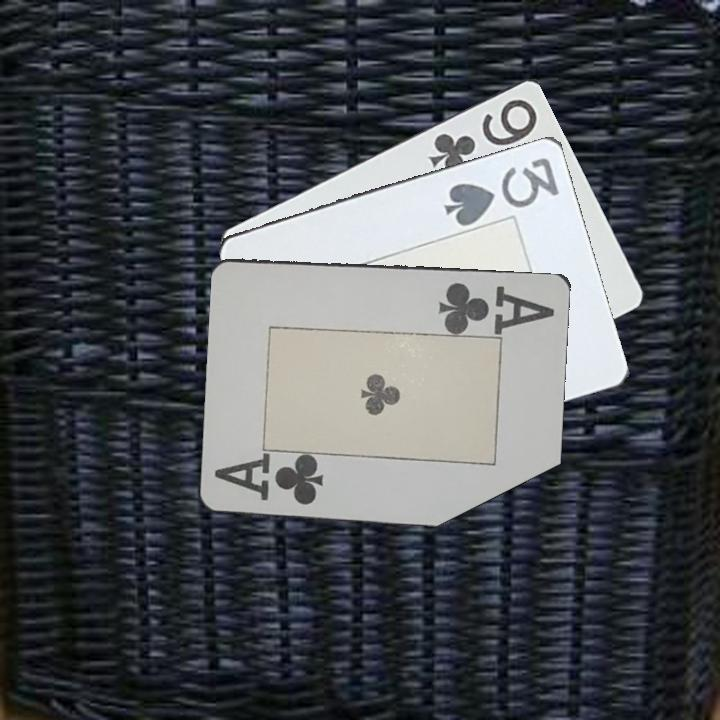3s: (440, 153, 562, 228)
9c: (425, 94, 541, 177)
Ac: (435, 278, 558, 333), (211, 453, 327, 508)
